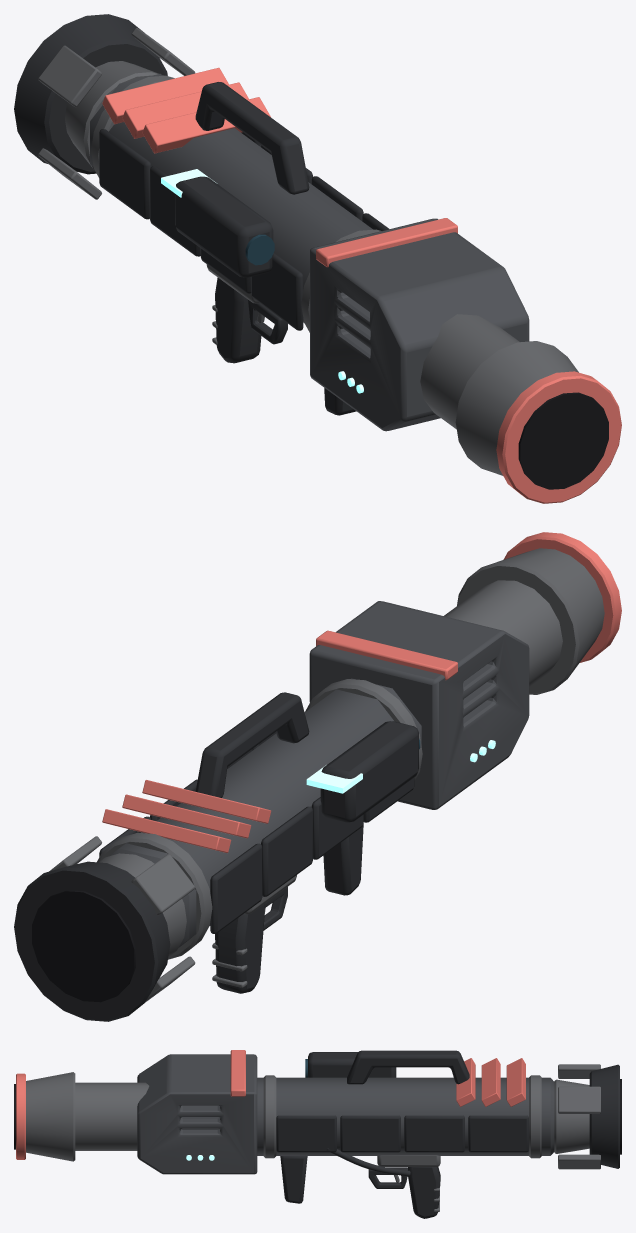
File: bazooka.glb
3 views of the same model, one above another, from view 1: azimuth 30°, elevation 25°; view 2: azimuth 150°, elevation 25°; view 3: azimuth 270°, elevation 25° (orthographic). The views are drawn at different scales.
Visible parts, largest first — view 1: shroud, tube, venturiBell, muzzleBell, bore.001, muzzleLip, optic, barrelNeck, handle, plate.010, grip.001, venturi (+14 smaller); view 2: shroud, tube, venturiBell, rearBore, muzzleBell, optic, barrelNeck, handle, muzzleLip, plate.010, plate.012, grip.001 (+11 smaller); view 3: shroud, tube, barrelNeck, muzzleBell, venturiBell, handle, plate.011, plate.013, plate.015, plate.017, venturi, optic (+15 smaller).
Boxes of the visible parts, bbox=[...] form: shroud: bbox=[310, 218, 529, 431]; tube: bbox=[90, 73, 372, 322]; venturiBell: bbox=[14, 14, 167, 174]; muzzleBell: bbox=[455, 341, 578, 475]; bore.001: bbox=[518, 392, 608, 489]; muzzleLip: bbox=[496, 371, 621, 503]; optic: bbox=[175, 176, 273, 277]; barrelNeck: bbox=[420, 314, 519, 429]; handle: bbox=[195, 82, 309, 194]; plate.010: bbox=[99, 129, 151, 219]; grip.001: bbox=[215, 277, 261, 363]; venturi: bbox=[65, 61, 163, 169]; shroud: bbox=[309, 601, 529, 809]; tube: bbox=[110, 678, 421, 948]; venturiBell: bbox=[14, 861, 170, 1021]; rearBore: bbox=[32, 890, 135, 1002]; muzzleBell: bbox=[457, 548, 604, 694]; optic: bbox=[320, 721, 418, 822]; barrelNeck: bbox=[444, 580, 562, 686]; handle: bbox=[195, 692, 309, 797]; muzzleLip: bbox=[503, 532, 621, 662]; plate.010: bbox=[210, 843, 262, 933]; plate.012: bbox=[261, 806, 312, 896]; grip.001: bbox=[215, 904, 264, 993]; shroud: bbox=[137, 1054, 257, 1174]; tube: bbox=[181, 1077, 554, 1155]; barrelNeck: bbox=[75, 1082, 149, 1150]; muzzleBell: bbox=[26, 1072, 75, 1161]; venturiBell: bbox=[589, 1064, 619, 1168]; handle: bbox=[347, 1050, 469, 1084]; plate.011: bbox=[468, 1115, 528, 1152]; plate.013: bbox=[404, 1115, 464, 1152]; plate.015: bbox=[340, 1115, 400, 1152]; plate.017: bbox=[276, 1115, 336, 1152]; venturi: bbox=[554, 1079, 589, 1153]; optic: bbox=[308, 1052, 396, 1077].
Size of the model in its own units: 0.9414 by 1.42 by 4.81.
